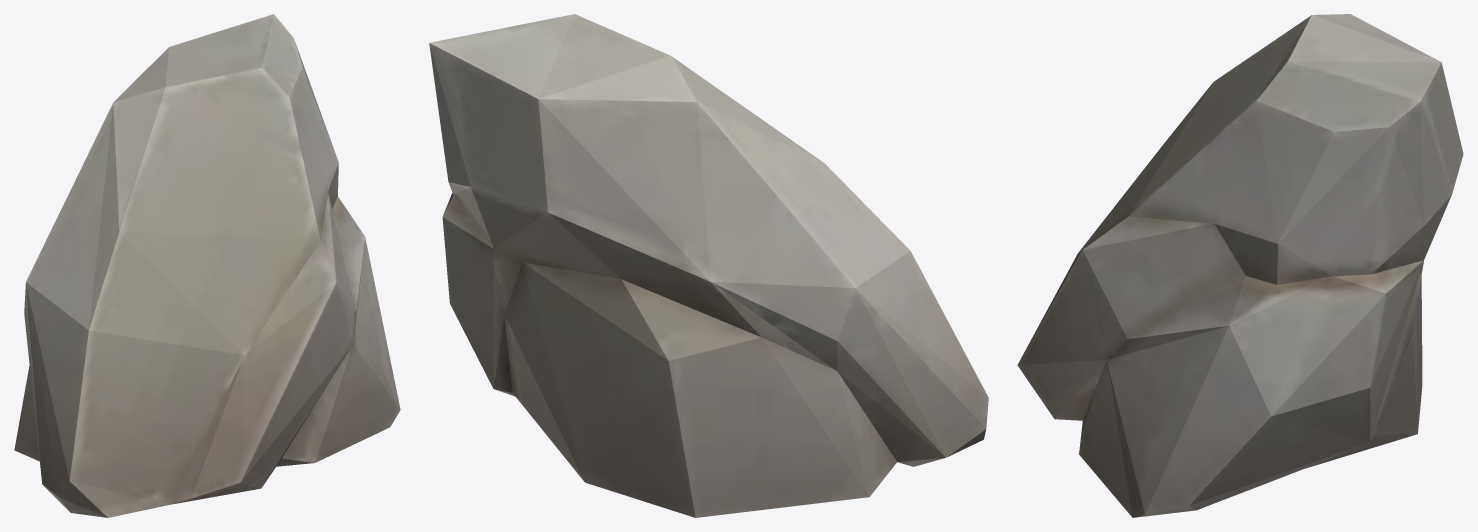
Rendered from rock_04.glb.
The picture shows the model from 3 angles, left to right: view 1: azimuth 30°, elevation 25°; view 2: azimuth 150°, elevation 25°; view 3: azimuth 270°, elevation 25°; orthographic projection. The views are drawn at different scales.
Visible parts, largest first — view 1: SM_Rocks_04_RocksStylized_M_0; view 2: SM_Rocks_04_RocksStylized_M_0; view 3: SM_Rocks_04_RocksStylized_M_0.
Part boxes in pixels (x1,y1,x2,y2): SM_Rocks_04_RocksStylized_M_0: (14, 14, 400, 517); SM_Rocks_04_RocksStylized_M_0: (429, 14, 988, 517); SM_Rocks_04_RocksStylized_M_0: (1017, 14, 1463, 517).
Size of the model in its own units: 4.94 by 4.33 by 4.12.
Materials: 1 (1 with a texture image).
